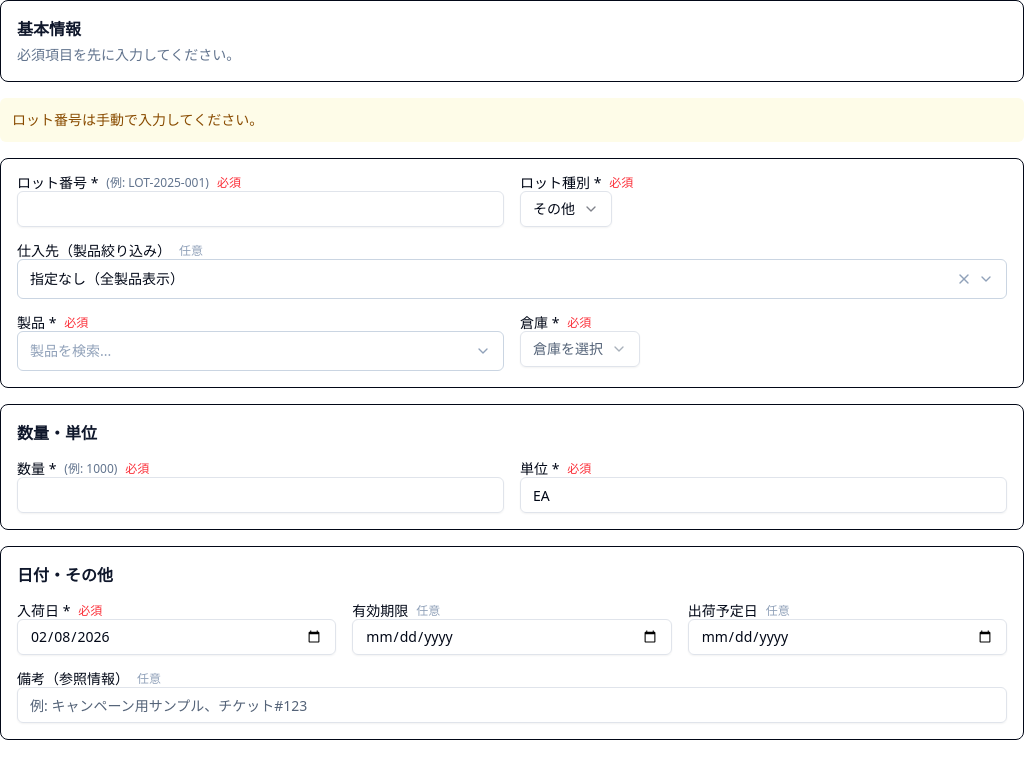
Test case: AdhocLotCreateForm › filters products by supplier
Select Supplier 1
Step 1. Click the button "指定なし（全製品表示）" → (107, 278), box [17, 259, 1007, 299]
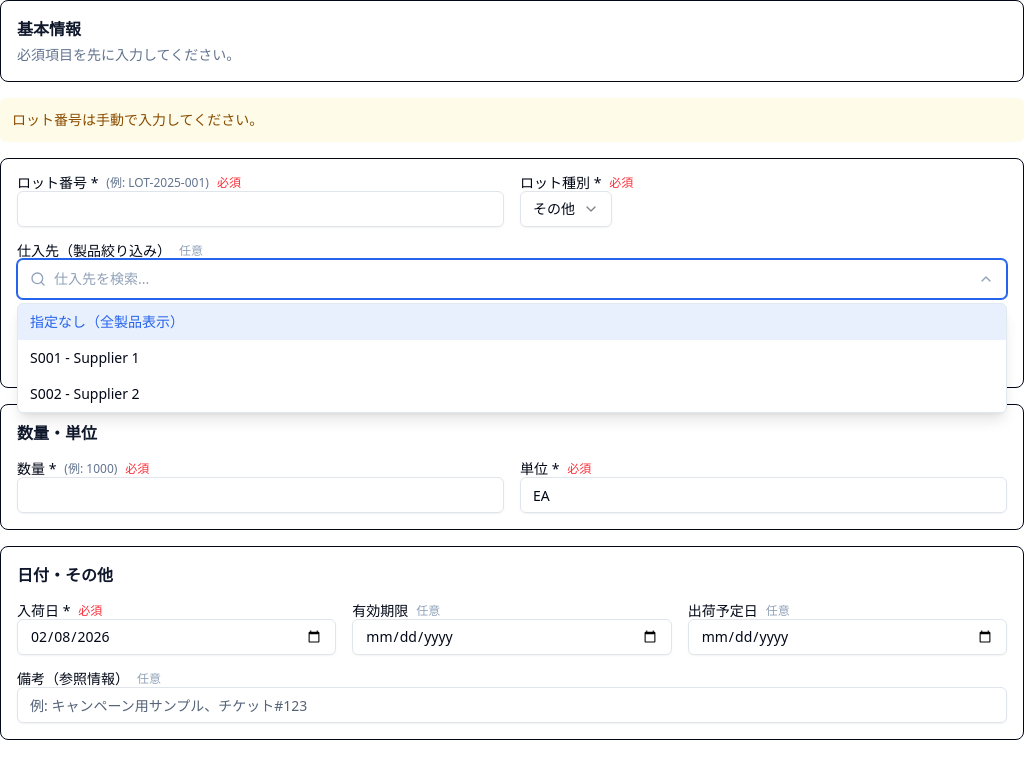
SearchableSelect options list
Step 2. Click the button "S001 - Supplier 1" → (85, 358), box [18, 340, 1006, 376]
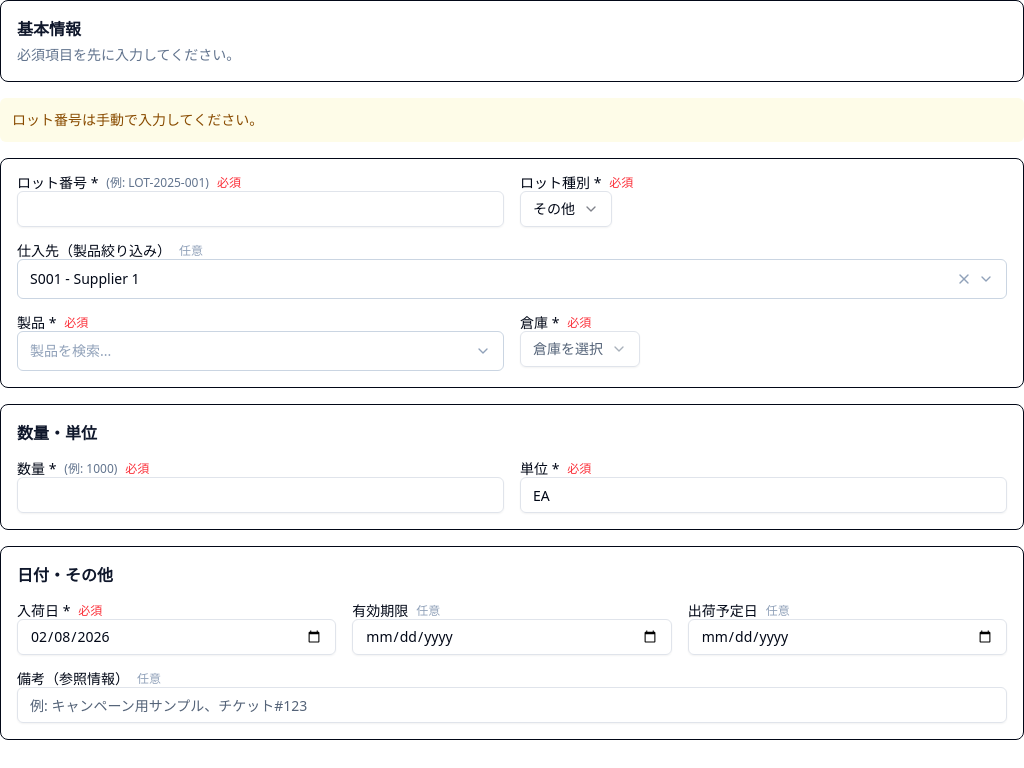
Open Product Dropdown
Step 3. Click the button "製品を検索..." → (71, 350), box [17, 331, 504, 371]
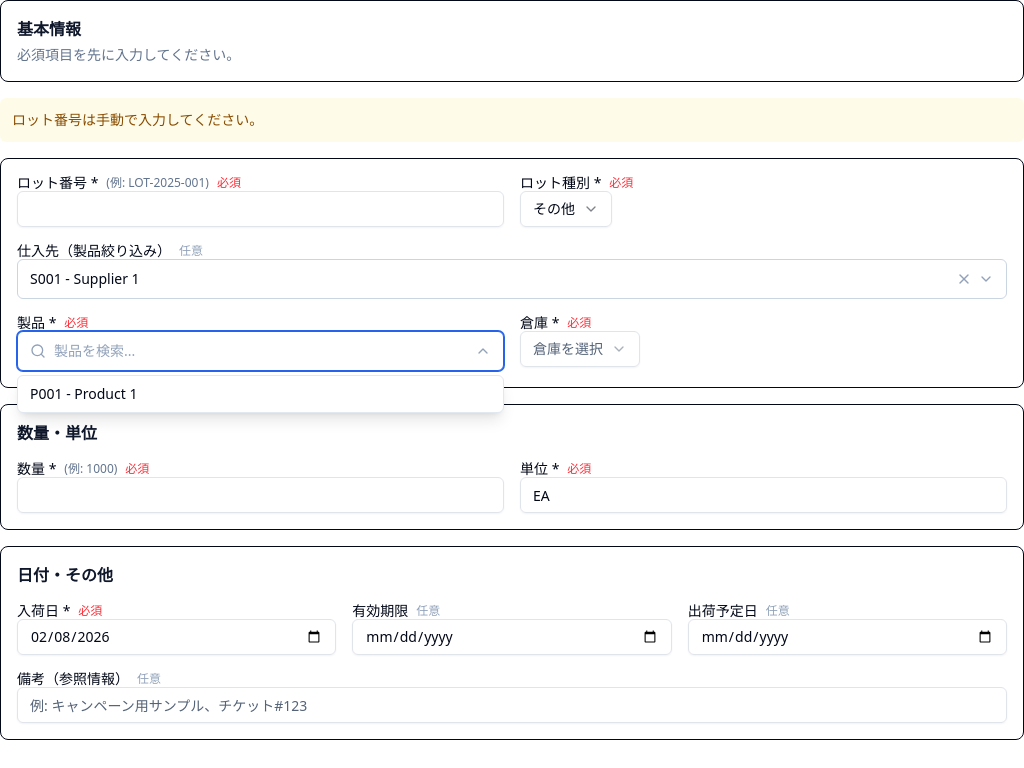
Check: the button "P001 - Product 1" is shown, box [18, 376, 503, 412]
